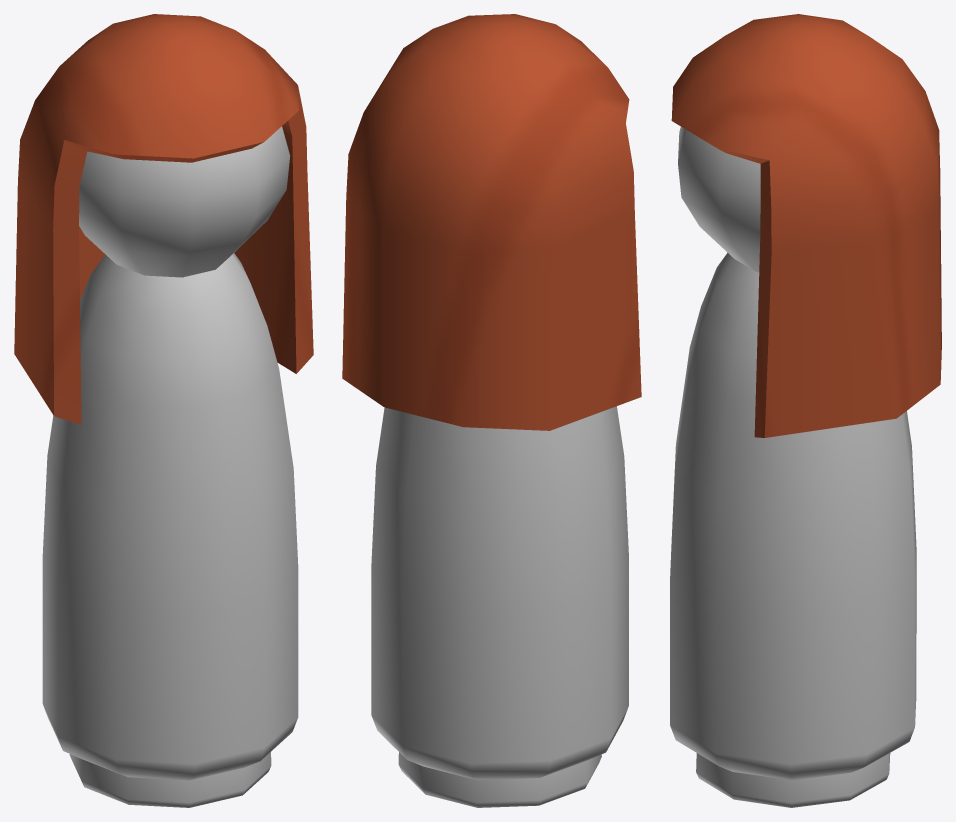
The model's file is Peg_Dress_Long_OrangeHair.fbx.
The picture shows the model from 3 angles, left to right: view 1: azimuth 30°, elevation 25°; view 2: azimuth 150°, elevation 25°; view 3: azimuth 270°, elevation 25°; orthographic projection.
Parts seen in each view (by area): view 1: Peg_Dress_Long_OrangeHair; view 2: Peg_Dress_Long_OrangeHair; view 3: Peg_Dress_Long_OrangeHair.
Part boxes in pixels (x1,y1,x2,y2): Peg_Dress_Long_OrangeHair: [14, 14, 313, 807]; Peg_Dress_Long_OrangeHair: [342, 14, 641, 807]; Peg_Dress_Long_OrangeHair: [670, 14, 941, 807].
Size of the model in its own units: 2.13 by 5.86 by 1.94.
